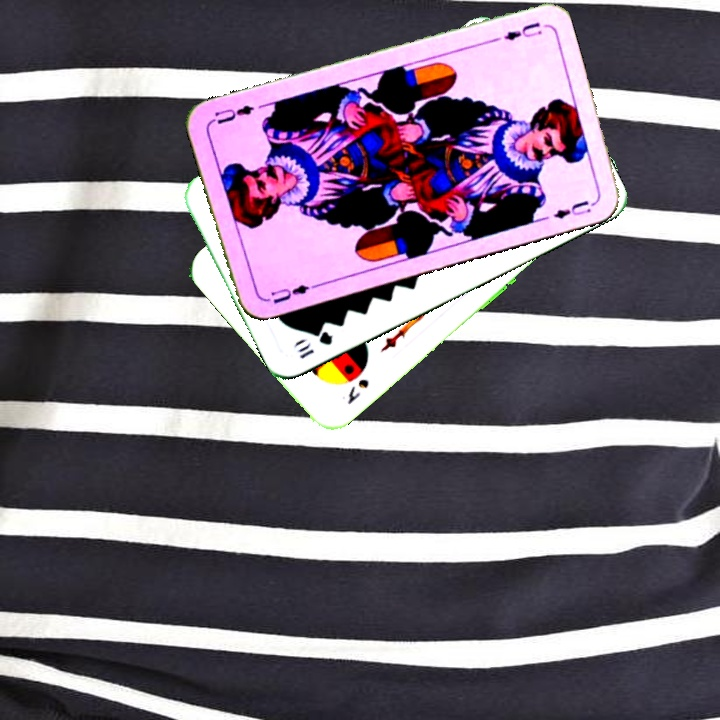EU: (267, 280, 319, 306), (500, 17, 545, 43)
G10: (292, 327, 335, 362)
SK: (343, 374, 372, 407)
